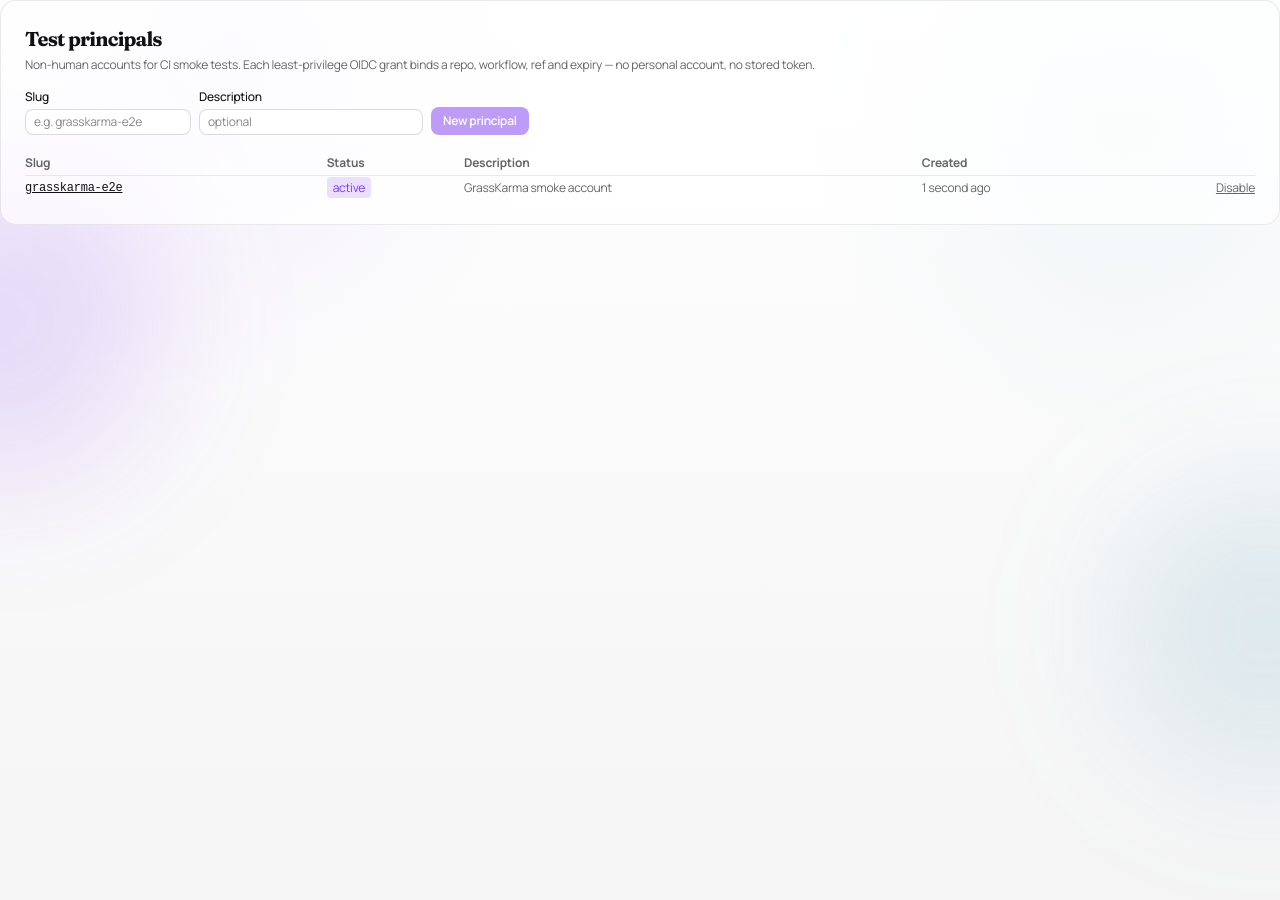
TestPrincipalsPanel › lists principals and expands grant + audit detail
This screenshot has width=1280, height=900.
Click the button "grasskarma-e2e". click: [74, 188]
box: [25,180,122,196]
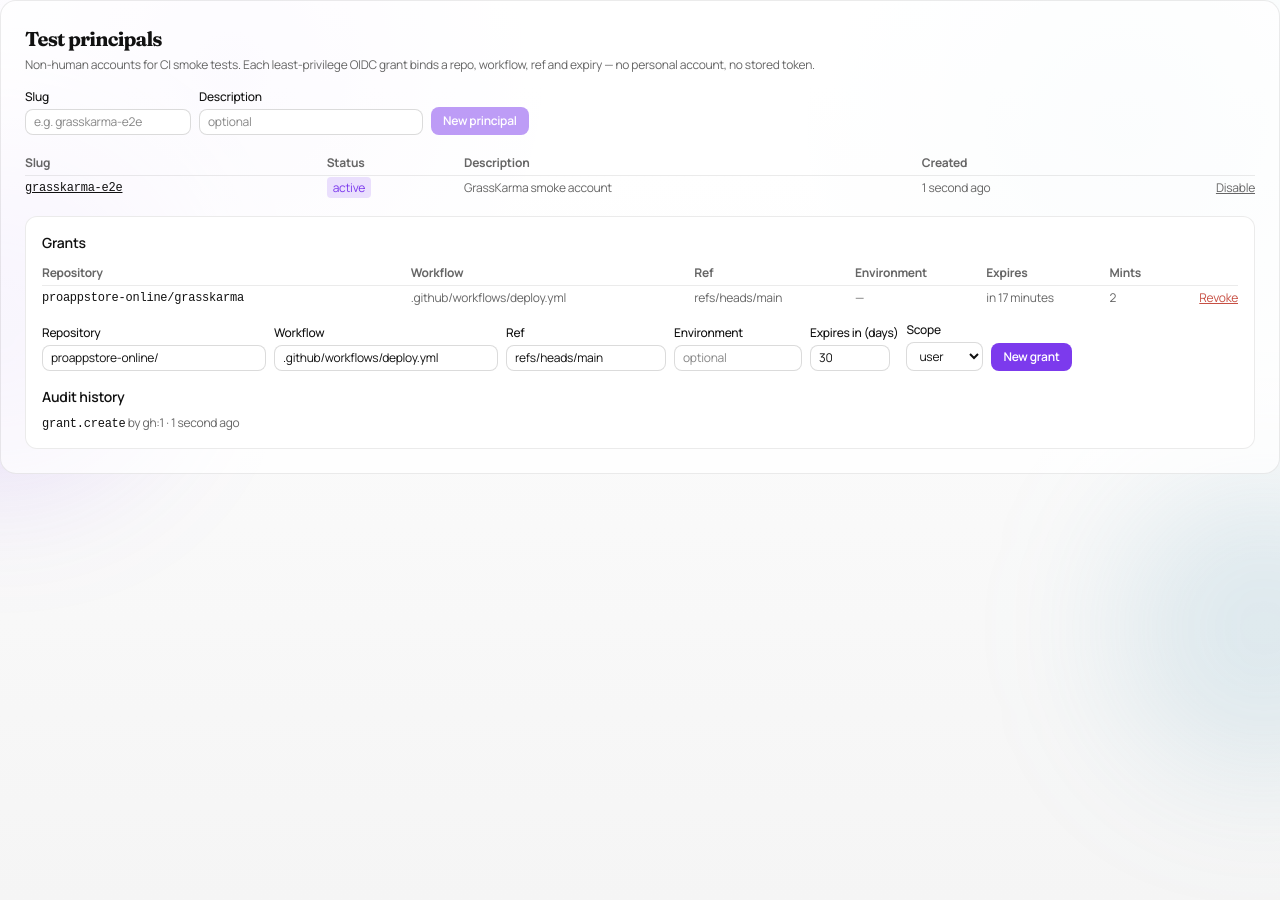
Expected: the text "proappstore-online/grasskarma" is shown, [42,286,411,310]
Expected: the text "grant.create" is shown, [42,417,126,431]
